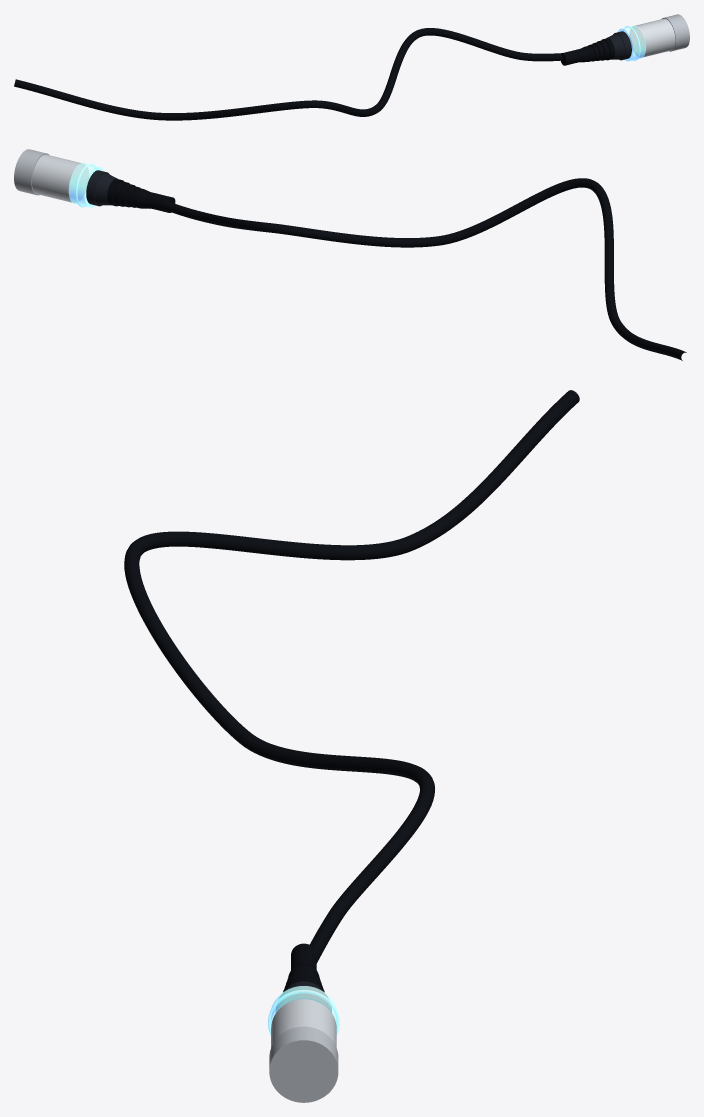
The model's file is vibration_sensor.glb.
3 renders of one model, top to bottom at view 1: azimuth 30°, elevation 25°; view 2: azimuth 150°, elevation 25°; view 3: azimuth 270°, elevation 25°, orthographic. The views are drawn at different scales.
Parts seen in each view (by area): view 1: sensor_cable, main_shell, front_cap, status_ring_shell, cable_bend_sleeve, relief_base, rear_neck; view 2: sensor_cable, main_shell, front_cap, status_ring_shell, relief_base, cable_bend_sleeve, rear_neck; view 3: sensor_cable, front_cap, main_shell.
Boxes of the visible parts, x1,y1,x2,y2 form: sensor_cable: (14,28,562,120); main_shell: (629,18,675,57); front_cap: (662,14,689,51); status_ring_shell: (618,25,645,61); cable_bend_sleeve: (561,48,584,65); relief_base: (606,33,625,59); rear_neck: (613,31,631,60); sensor_cable: (158,178,686,360); main_shell: (32,154,88,202); front_cap: (14,149,49,195); status_ring_shell: (68,163,103,207); relief_base: (94,173,117,205); cable_bend_sleeve: (145,191,175,212); rear_neck: (86,170,109,206); sensor_cable: (124,390,579,963); front_cap: (269,1026,338,1102); main_shell: (271,999,336,1047).
Size of the model in its own units: 4.74 by 0.5906 by 1.55.
